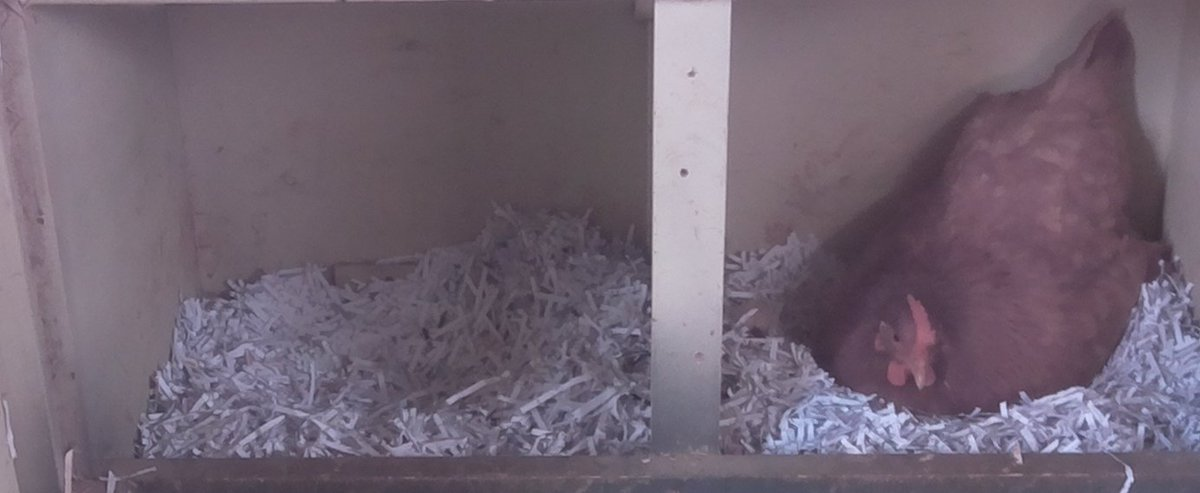hen: (775, 18, 1143, 426)
